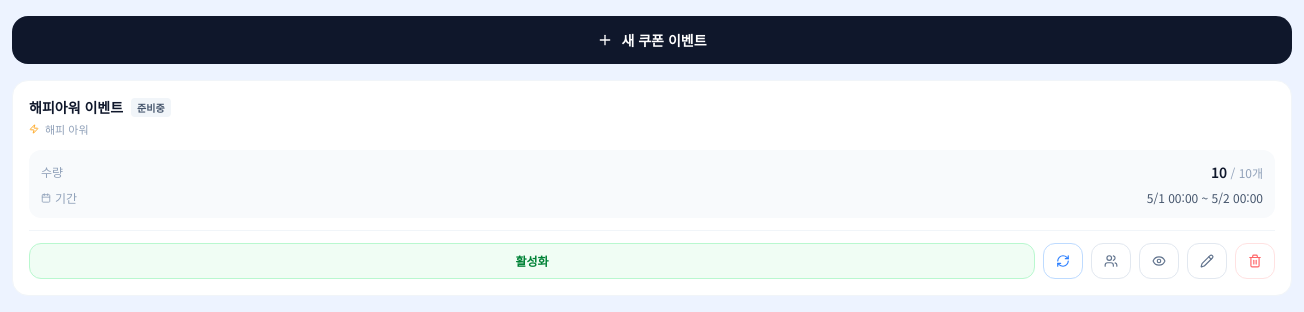
Test case: CouponEventsTab › 활성화 실패 시 에러 토스트 표시
Step 1. Click the button "활성화" → (532, 260), box [29, 242, 1035, 278]
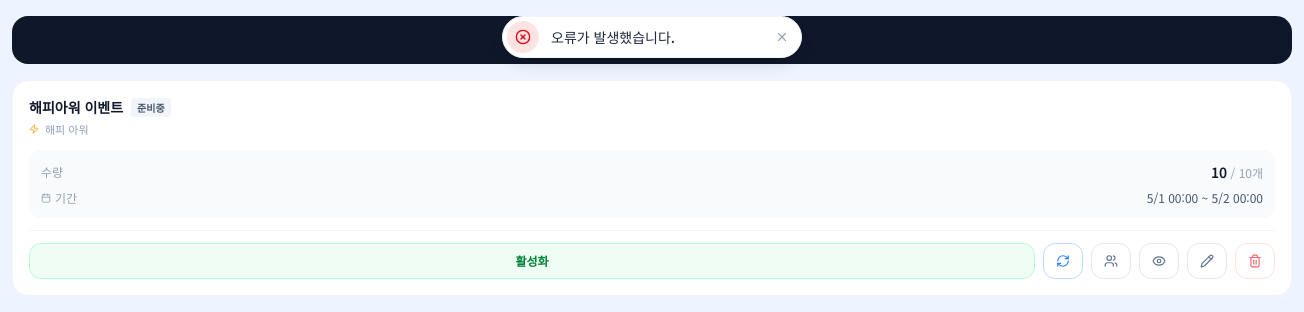
Check: the text "오류가 발생했습니다." is shown, box [551, 27, 675, 47]
